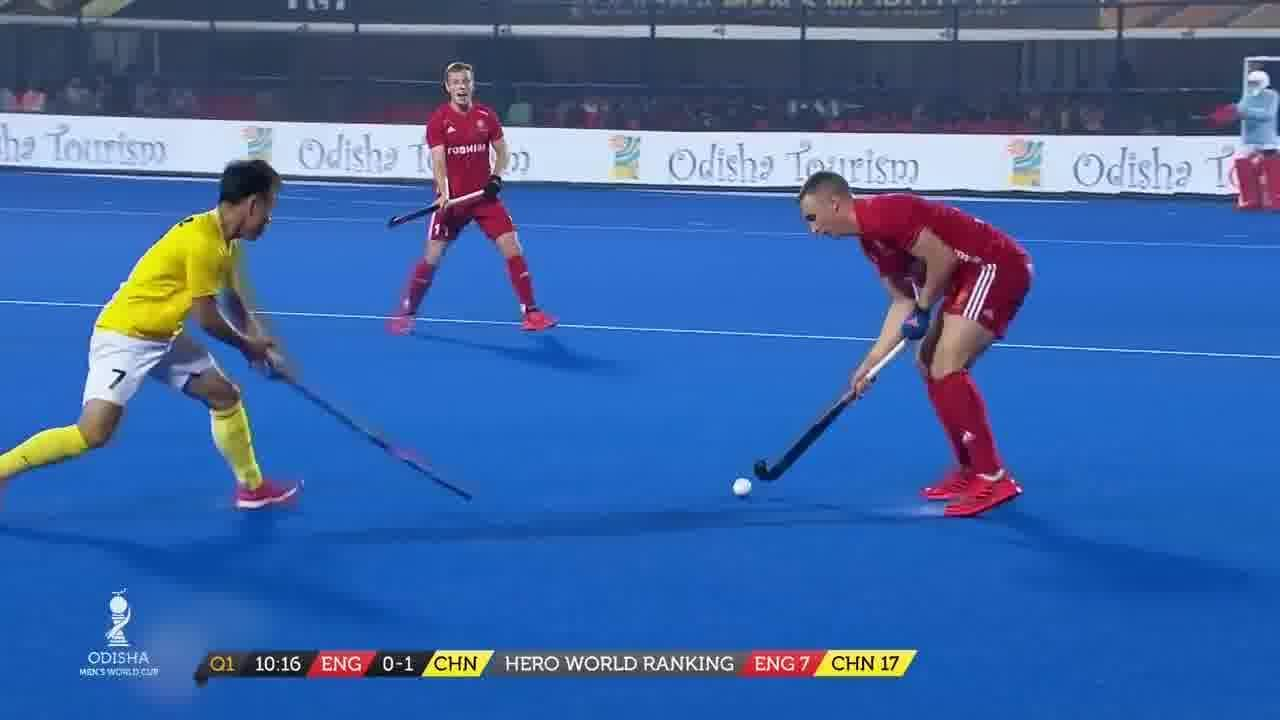ball: (724, 470, 756, 506)
